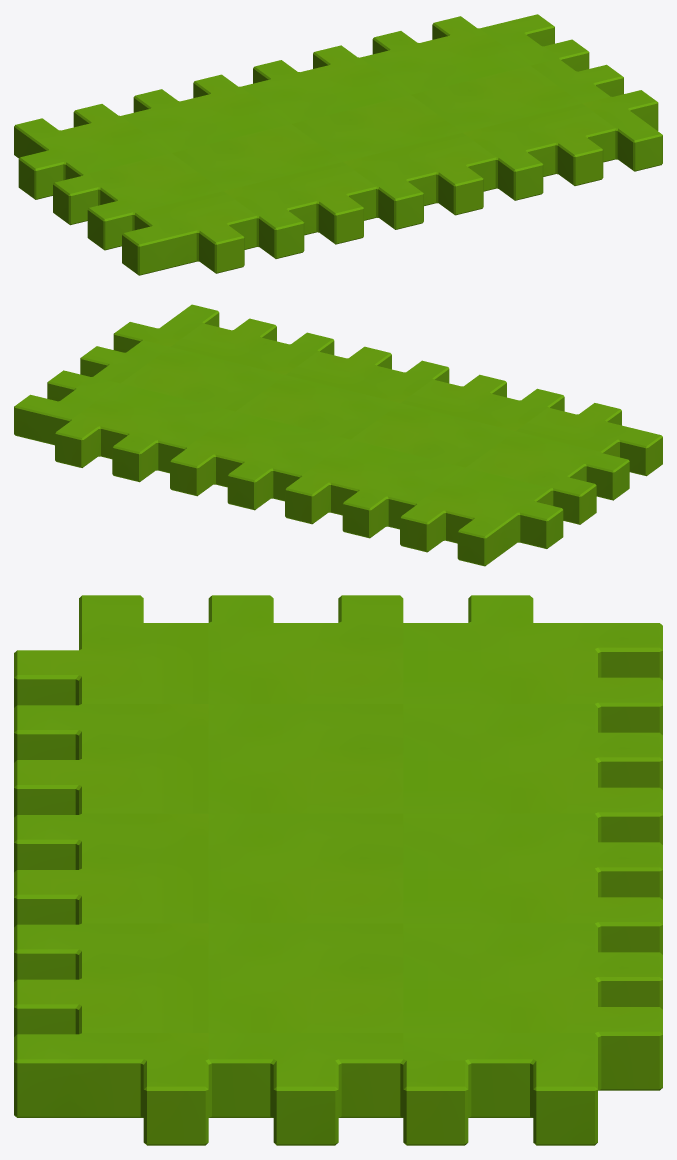
Rendered from GreenRect.fbx.
3 views of the same model, one above another, from view 1: azimuth 30°, elevation 25°; view 2: azimuth 150°, elevation 25°; view 3: azimuth 270°, elevation 25° (orthographic). The views are drawn at different scales.
Visible parts, largest first — view 1: BlueRect; view 2: BlueRect; view 3: BlueRect.
Boxes of the visible parts, x1,y1,x2,y2 form: BlueRect: (14, 14, 662, 275); BlueRect: (14, 304, 662, 566); BlueRect: (14, 595, 662, 1145).
Bounding box in the file's own units: 9 × 0.5001 × 5.
